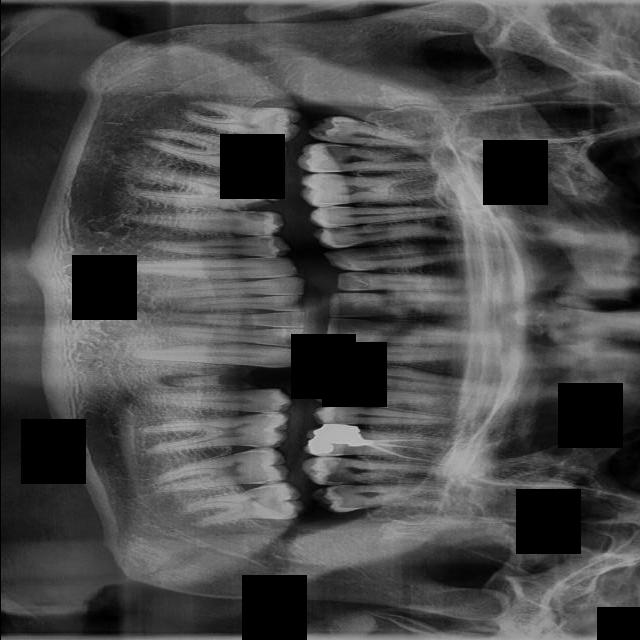72: (171, 369, 252, 388)
74: (366, 442, 430, 466), (374, 442, 428, 451), (371, 438, 423, 443)
NucleOSS Implant: (304, 416, 373, 457)
Sterngold Implant: (318, 385, 372, 406), (315, 115, 346, 143), (223, 195, 280, 210), (318, 142, 352, 158), (324, 484, 355, 499), (321, 473, 359, 485), (234, 211, 275, 222), (268, 494, 288, 511), (267, 115, 282, 131), (325, 226, 350, 235), (256, 476, 277, 485), (251, 236, 274, 243), (354, 344, 369, 351), (250, 230, 267, 236), (253, 414, 273, 419)
